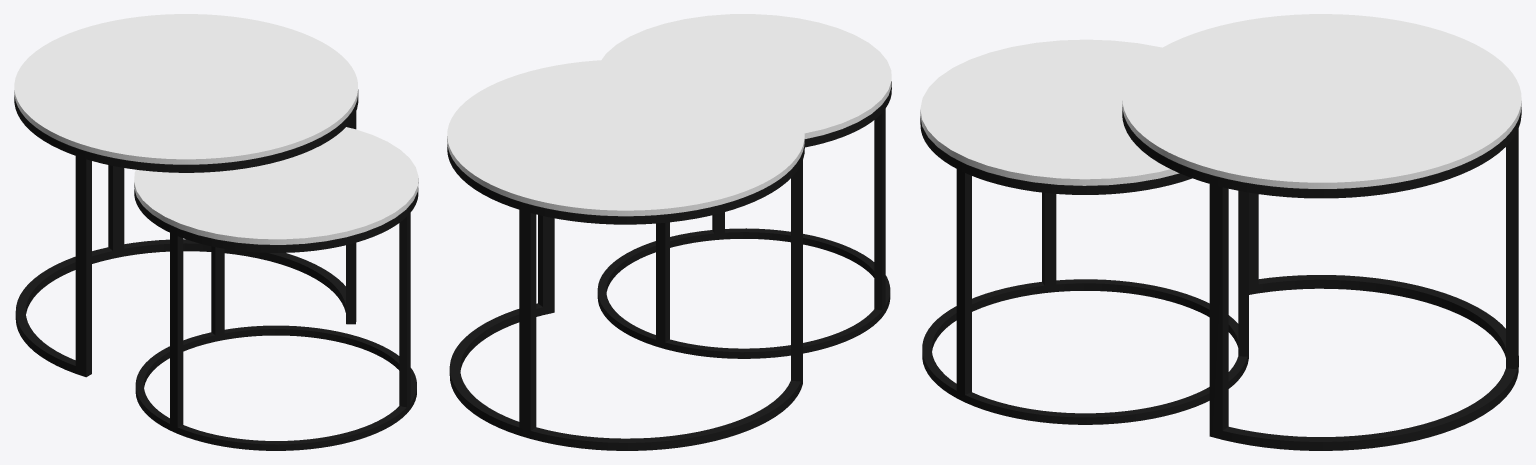
File: ban-tra-doi-tron.glb
3 renders of one model, left to right at view 1: azimuth 30°, elevation 25°; view 2: azimuth 150°, elevation 25°; view 3: azimuth 270°, elevation 25°, orthographic. The views are drawn at different scales.
Parts seen in each view (by area): view 1: MAIN, DOOR; view 2: MAIN, DOOR; view 3: MAIN, DOOR.
Boxes of the visible parts, bbox=[...] form: MAIN: bbox=[14, 14, 418, 244]; DOOR: bbox=[14, 89, 418, 450]; MAIN: bbox=[447, 14, 891, 216]; DOOR: bbox=[447, 81, 891, 450]; MAIN: bbox=[920, 14, 1521, 188]; DOOR: bbox=[920, 107, 1521, 450].
Bounding box in the file's own units: 0.6049 × 0.4502 × 0.9107.
2 materials, 1 textured.
